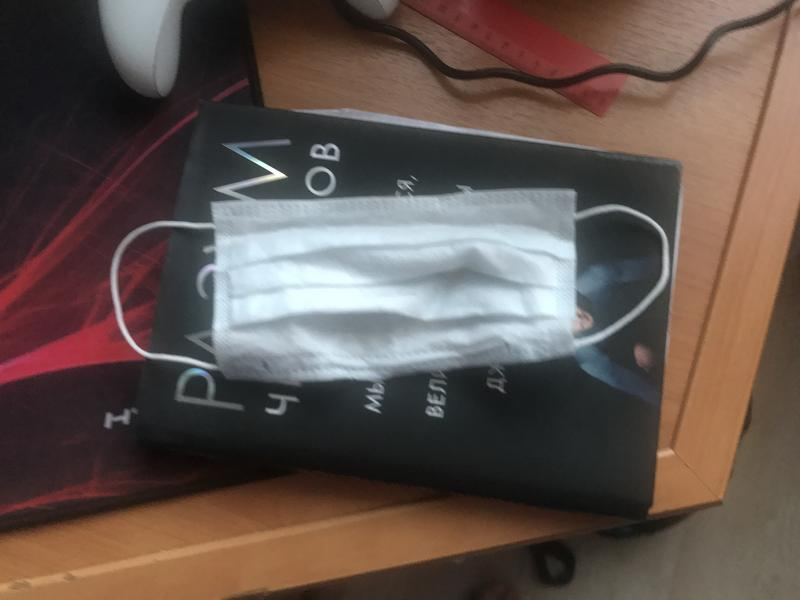medical_mask: (108, 189, 669, 377)
